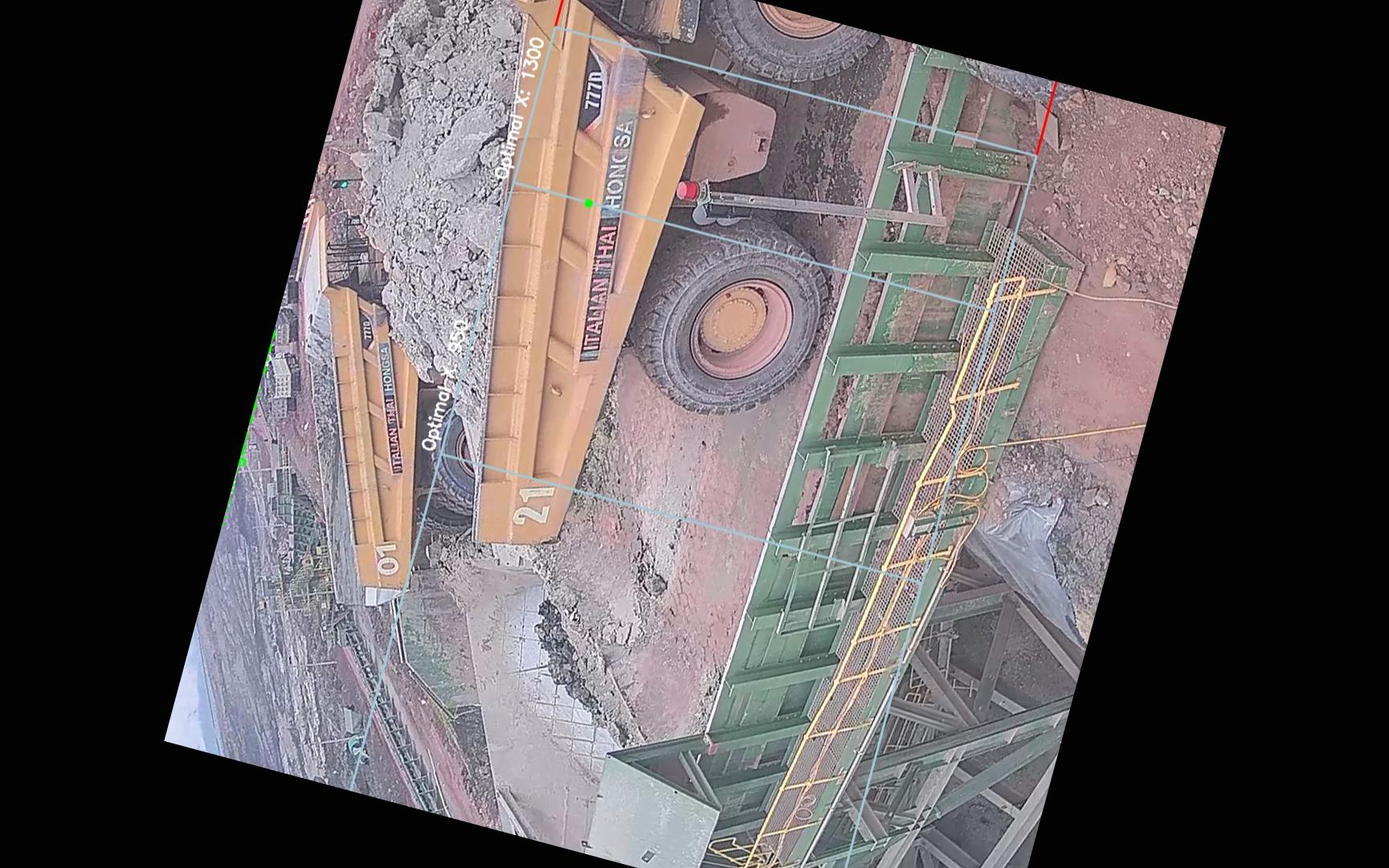company: (557, 104, 667, 368)
full_load: (314, 0, 570, 292)
mining_truck: (243, 0, 889, 620)
tail_number: (490, 461, 573, 544)
truck_size: (564, 41, 621, 140)
